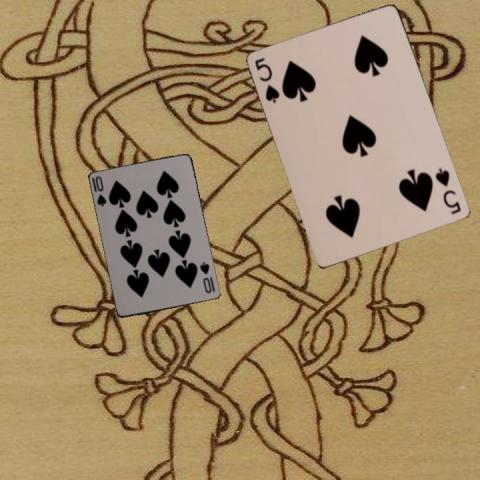10s: (198, 259, 214, 295), (93, 173, 108, 208)
5s: (432, 165, 462, 216), (252, 54, 281, 104)
